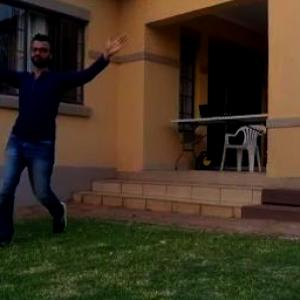takeoff: (1, 32, 123, 253)
